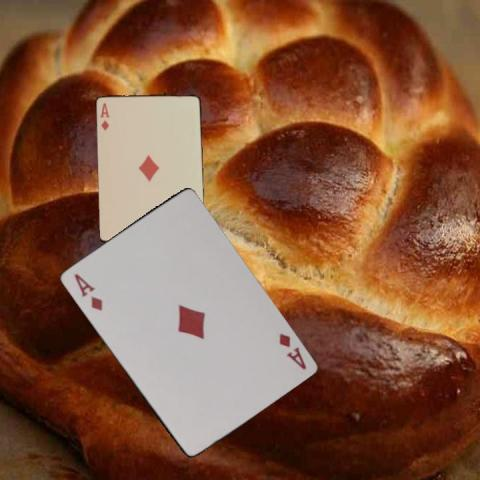Ad: (71, 270, 104, 313), (276, 330, 308, 371), (98, 100, 112, 132)
